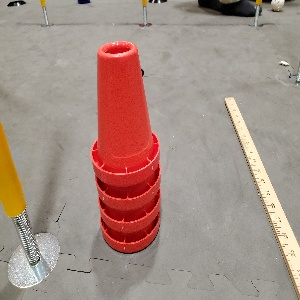Red_4: (84, 39, 165, 255)
